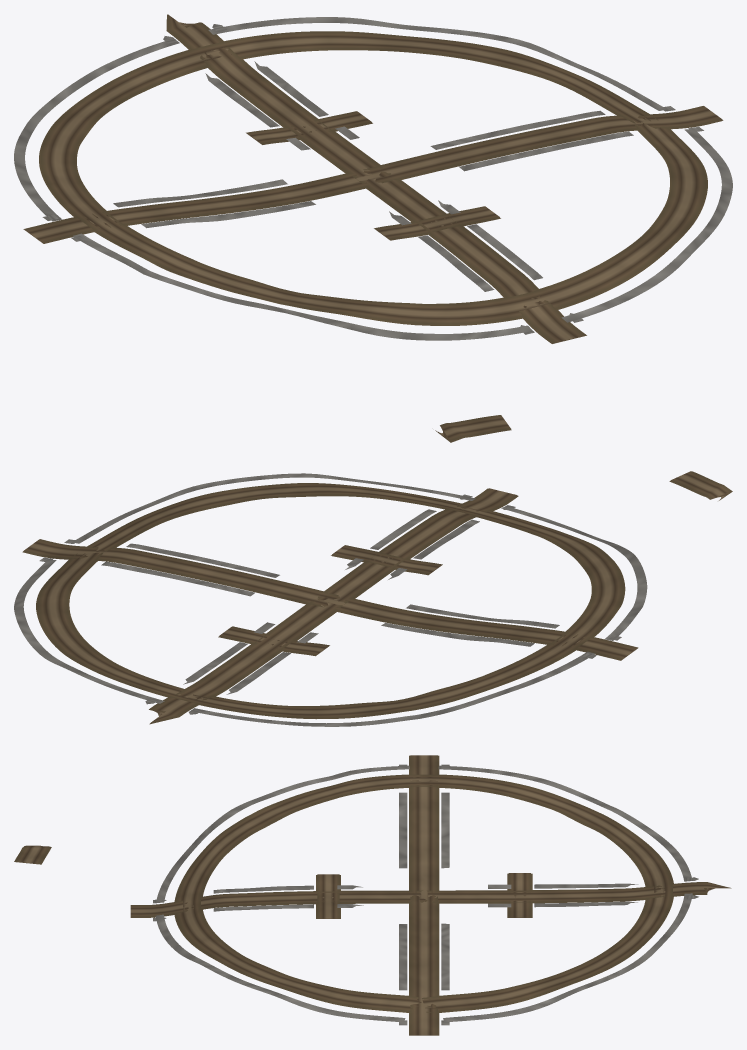
The model's file is Roads_P1.fbx.
3 renders of one model, top to bottom at view 1: azimuth 30°, elevation 25°; view 2: azimuth 150°, elevation 25°; view 3: azimuth 270°, elevation 25°, orthographic. The views are drawn at different scales.
Parts seen in each view (by area): view 1: Road.Loop, Road.Y, Road.X, Walk.Ring0, Road.Loop.shoulder, Road.X.shoulder, Street.TownS, Road.Y.shoulder, Street.TownN, Road.Port, Walk.XEI.001, Walk.XEI (+6 smaller); view 2: Road.Loop, Road.X, Road.Y, Walk.Ring0, Road.Loop.shoulder, Road.X.shoulder, Street.TownS, Road.Y.shoulder, Street.TownN, Road.Port, Walk.XEI, Walk.XEI.001 (+6 smaller); view 3: Road.Loop, Road.X, Walk.Ring0, Road.Y, Road.Loop.shoulder, Road.Y.shoulder, Street.TownS, Road.X.shoulder, Street.TownN, Walk.XWI.001, Walk.XWI, Walk.XEI (+6 smaller).
Part boxes in pixels (x1,y1,x2,y2): Road.Loop: (41, 31, 705, 324); Road.Y: (168, 14, 585, 342); Road.X: (25, 106, 722, 242); Walk.Ring0: (14, 17, 732, 340); Road.Loop.shoulder: (39, 31, 707, 325); Road.X.shoulder: (23, 106, 723, 243); Street.TownS: (375, 206, 499, 239); Road.Y.shoulder: (166, 14, 586, 343); Street.TownN: (247, 111, 371, 143); Road.Port: (437, 415, 510, 441); Walk.XEI.001: (459, 131, 633, 171); Walk.XEI: (430, 110, 605, 149); Road.Loop: (37, 483, 623, 717); Road.X: (23, 539, 637, 659); Road.Y: (150, 488, 517, 723); Walk.Ring0: (14, 473, 647, 726); Road.Loop.shoulder: (36, 483, 625, 719); Road.X.shoulder: (22, 539, 638, 660); Street.TownS: (332, 545, 441, 573); Road.Y.shoulder: (149, 488, 518, 724); Street.TownN: (219, 626, 329, 654); Road.Port: (670, 471, 731, 499); Walk.XEI: (101, 561, 254, 596); Walk.XEI.001: (126, 543, 279, 577); Road.Loop: (176, 774, 672, 1012); Road.X: (410, 755, 437, 1035); Walk.Ring0: (155, 765, 692, 1022); Road.Y: (130, 882, 730, 916); Road.Loop.shoulder: (174, 774, 673, 1012); Road.Y.shoulder: (130, 882, 731, 917); Street.TownS: (317, 874, 339, 918); Road.X.shoulder: (409, 755, 439, 1035); Street.TownN: (508, 873, 530, 917); Walk.XWI.001: (399, 792, 407, 868); Walk.XWI: (441, 792, 449, 868); Walk.XEI: (441, 923, 449, 990).
Size of the model in its own units: 18400 by 1243 by 22537.
